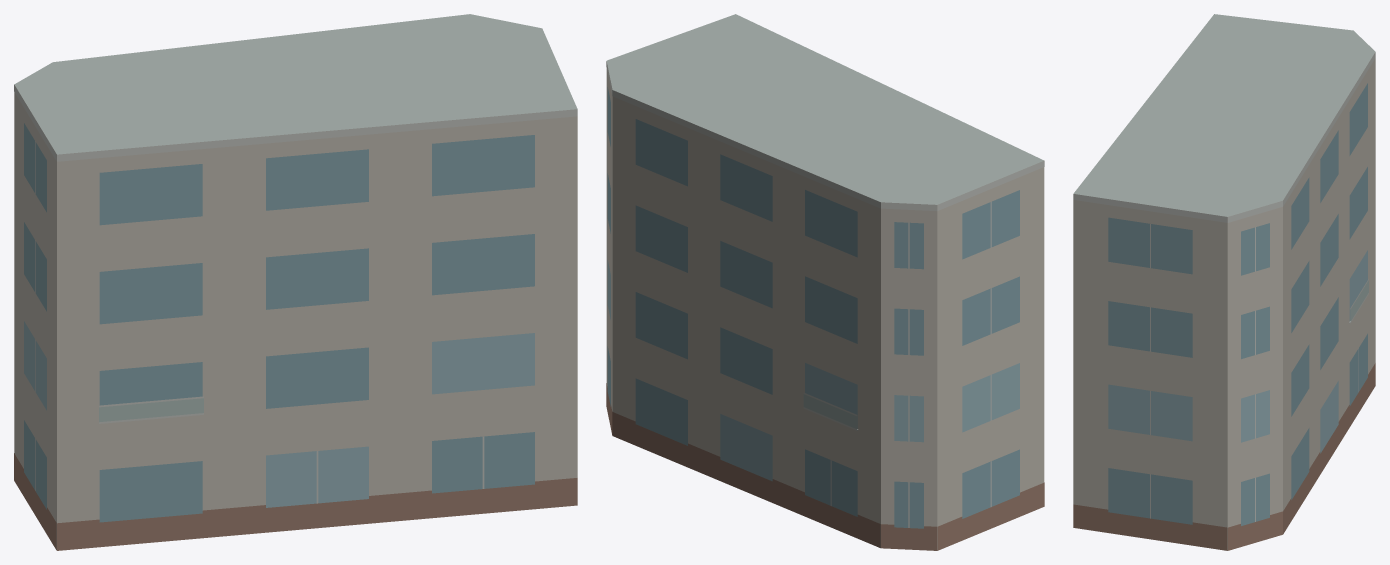
Rendered from survey-upis-32784376.glb.
The picture shows the model from 3 angles, left to right: view 1: azimuth 30°, elevation 25°; view 2: azimuth 150°, elevation 25°; view 3: azimuth 270°, elevation 25°; orthographic projection. The views are drawn at different scales.
Visible parts, largest first — view 1: survey-upis-32784376.tmp; view 2: survey-upis-32784376.tmp; view 3: survey-upis-32784376.tmp.
Part boxes in pixels (x1,y1,x2,y2): survey-upis-32784376.tmp: (14,14,577,550); survey-upis-32784376.tmp: (606,14,1044,550); survey-upis-32784376.tmp: (1073,14,1375,550).
Size of the model in its own units: 17.47 by 13.4 by 11.01.
